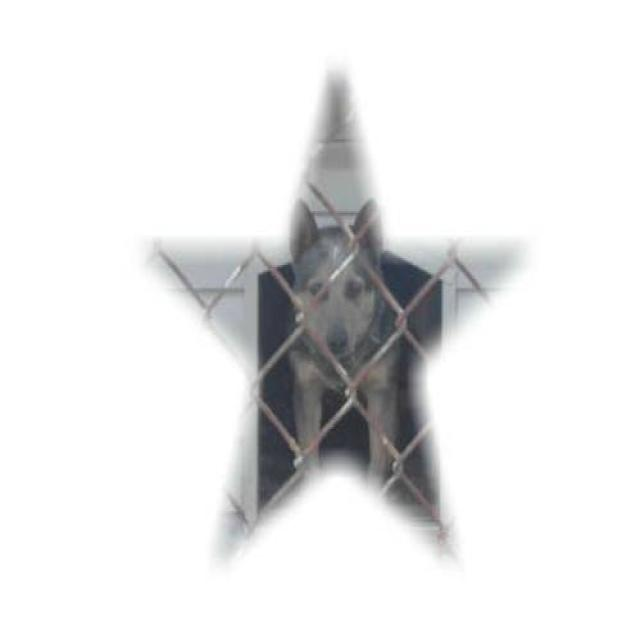dog: (283, 193, 444, 539)
